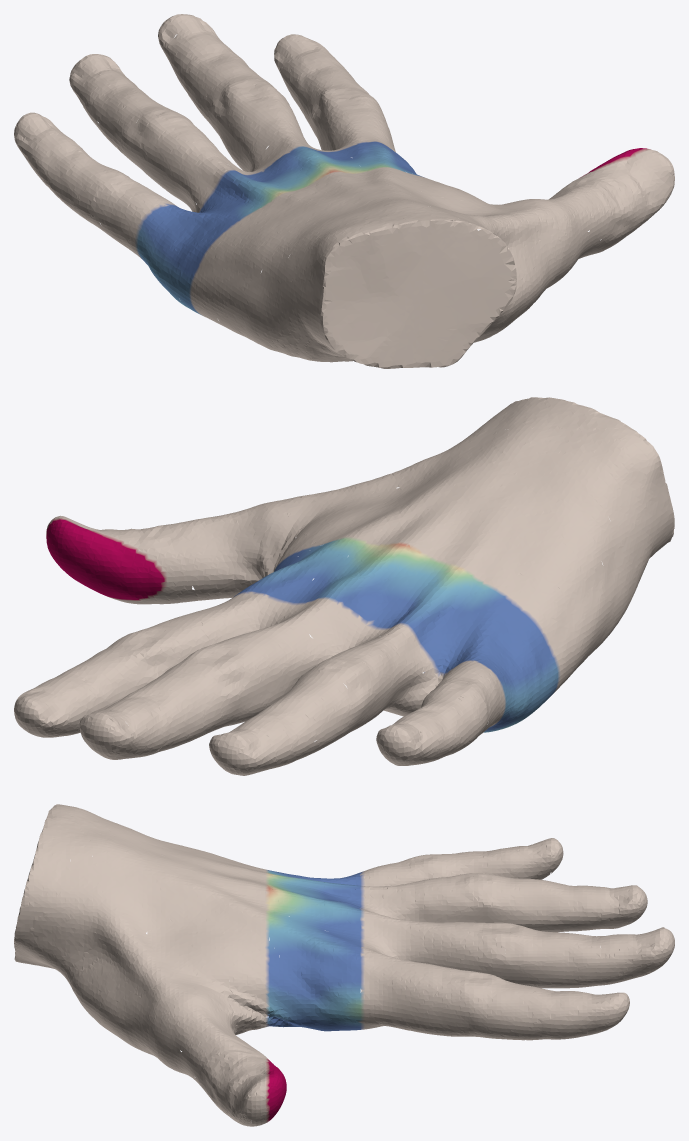
Rendered from analysis.glb.
The picture shows the model from 3 angles, top to bottom: view 1: azimuth 30°, elevation 25°; view 2: azimuth 150°, elevation 25°; view 3: azimuth 270°, elevation 25°; orthographic projection. The views are drawn at different scales.
Visible parts, largest first — view 1: hand; view 2: hand; view 3: hand.
Boxes of the visible parts, <box> form: hand: <box>14,14,674,368</box>; hand: <box>14,397,674,775</box>; hand: <box>14,804,674,1126</box>.
Bounding box in the file's own units: 147 × 49.89 × 183.
